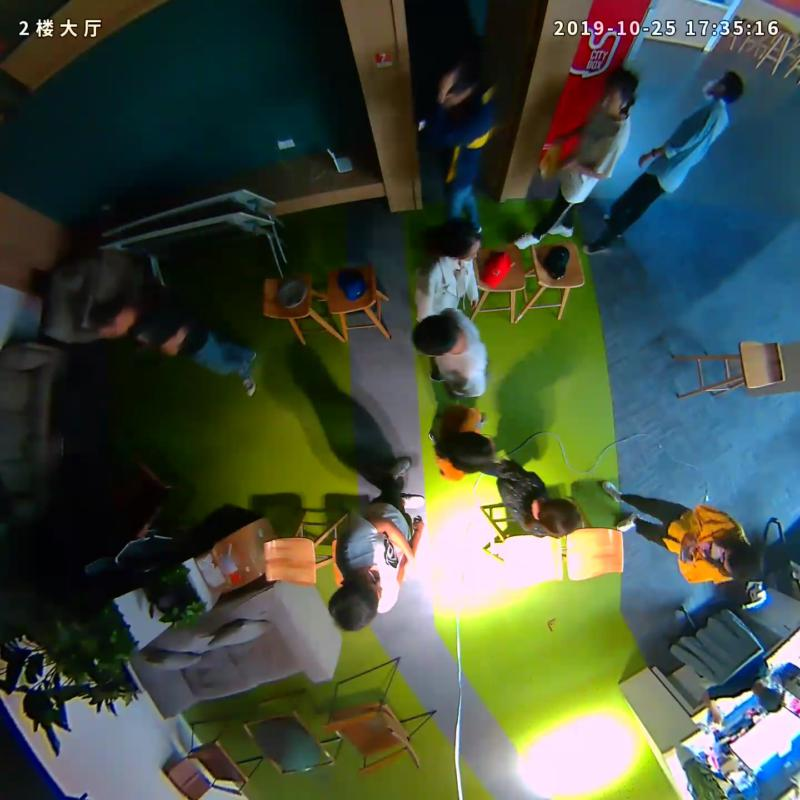head: (329, 563, 382, 631), (434, 54, 476, 108), (413, 314, 462, 357), (448, 430, 493, 476), (88, 299, 135, 340), (537, 496, 581, 539), (600, 68, 638, 117), (718, 541, 760, 584), (440, 219, 481, 263), (701, 71, 745, 103)
